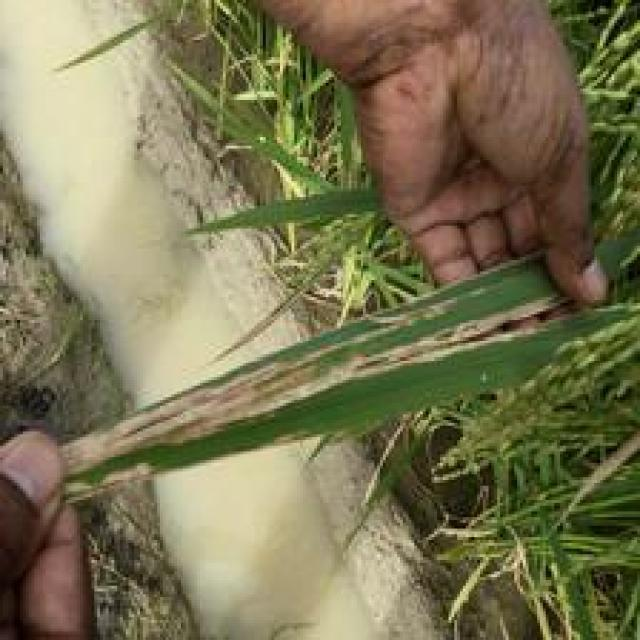Rice_Bacterial_Blight: (128, 294, 563, 423)
